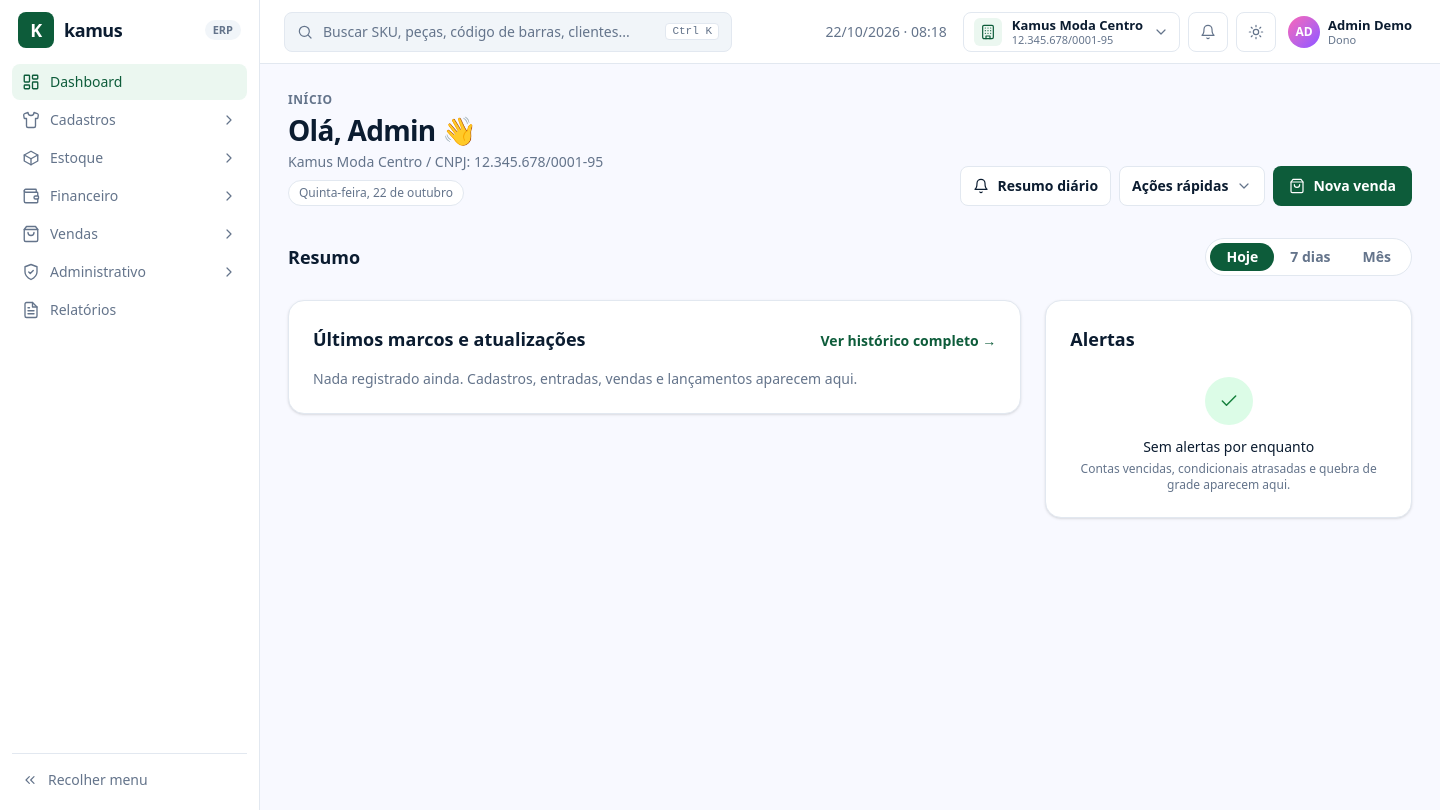
Test: Pesquisa global (Ctrl+K) › abre ao clicar no campo de pesquisa da barra superior
Check: the heading "Olá, Admin 👋" is shown, box [288,111,476,149]
Click the button with aria-label "Pesquisar (Ctrl+K)": {"x": 508, "y": 32} [284,12,732,52]
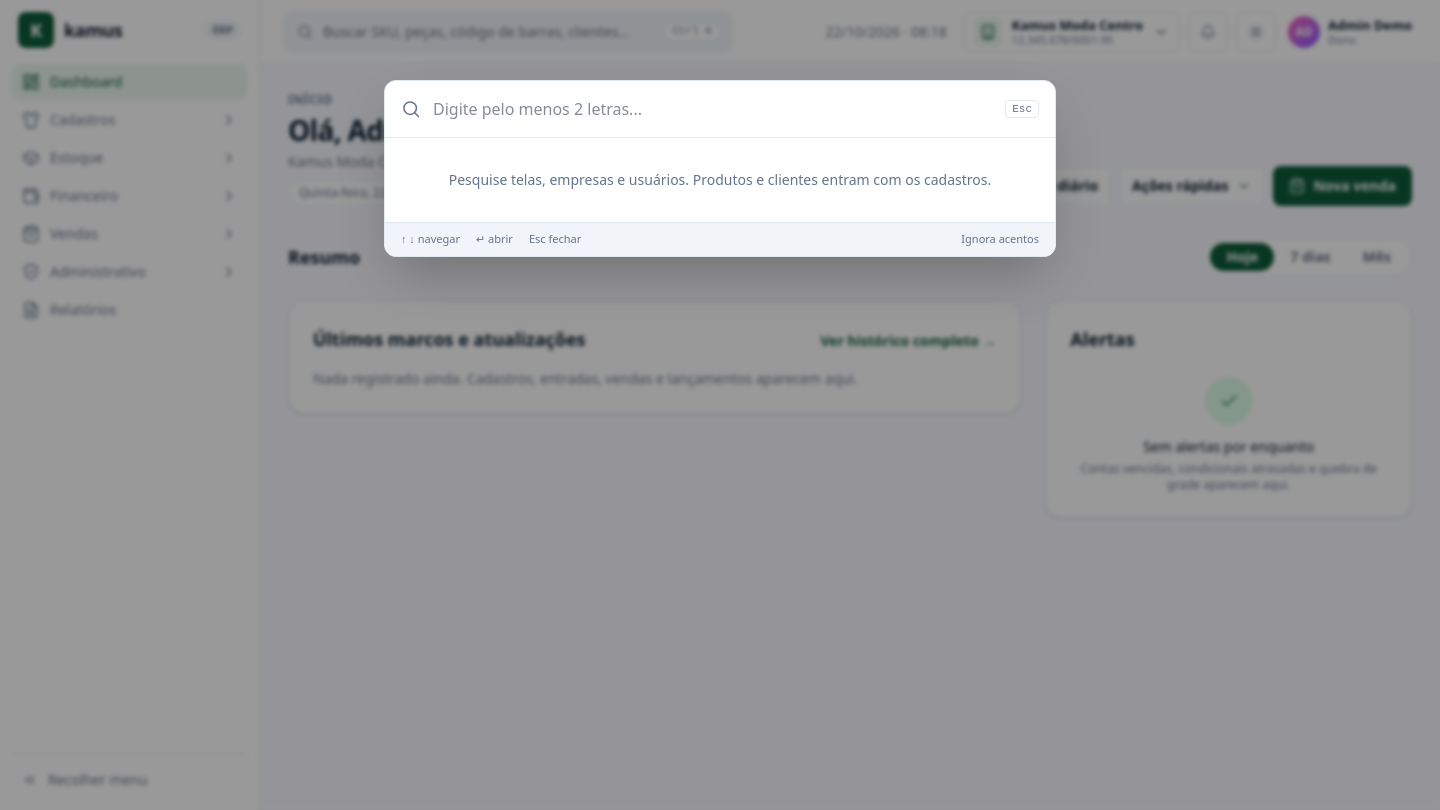
Check: the dialog named "Pesquisa global" is shown, box [384,80,1056,256]
